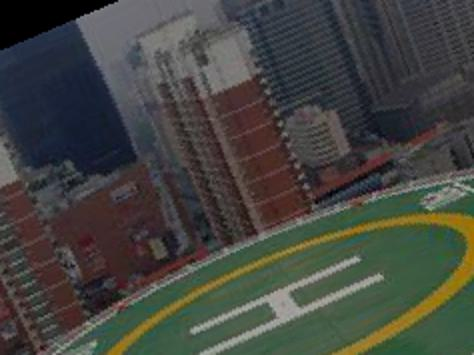Apron: (103, 203, 470, 352)
